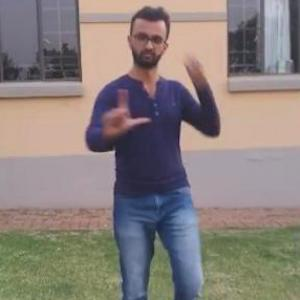land_hand: (95, 83, 150, 137)
